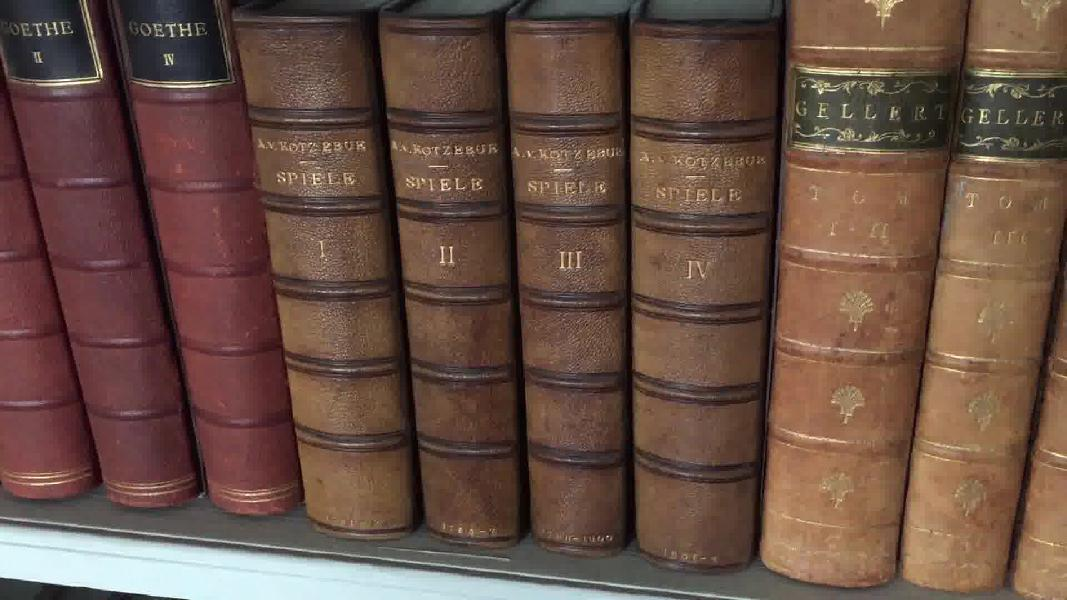Aa6-14_17: (232, 16, 779, 579)
